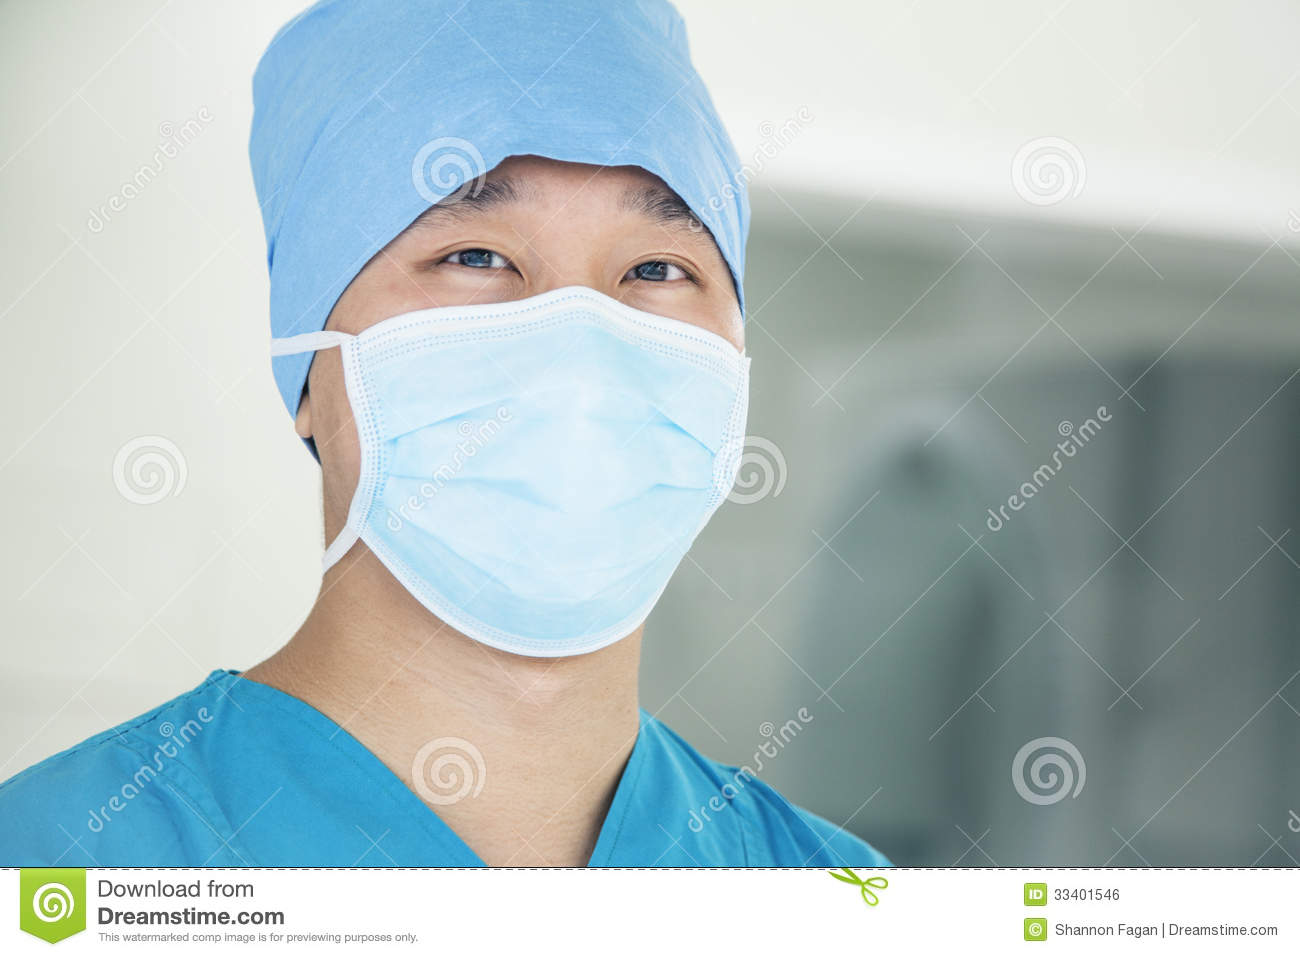mask: (332, 311, 736, 624)
